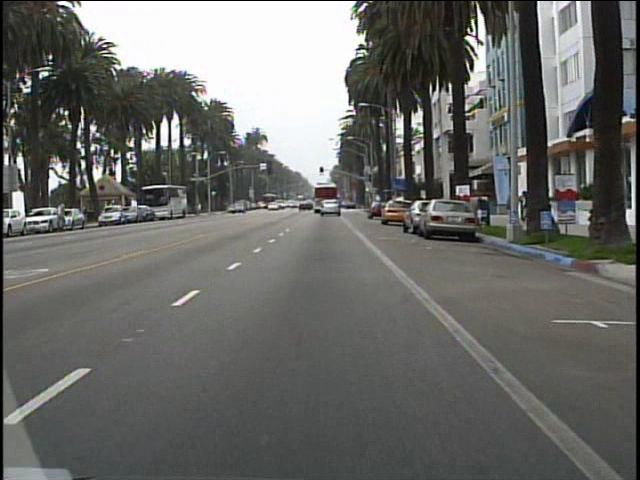person: (533, 180, 551, 230), (514, 183, 515, 225)
